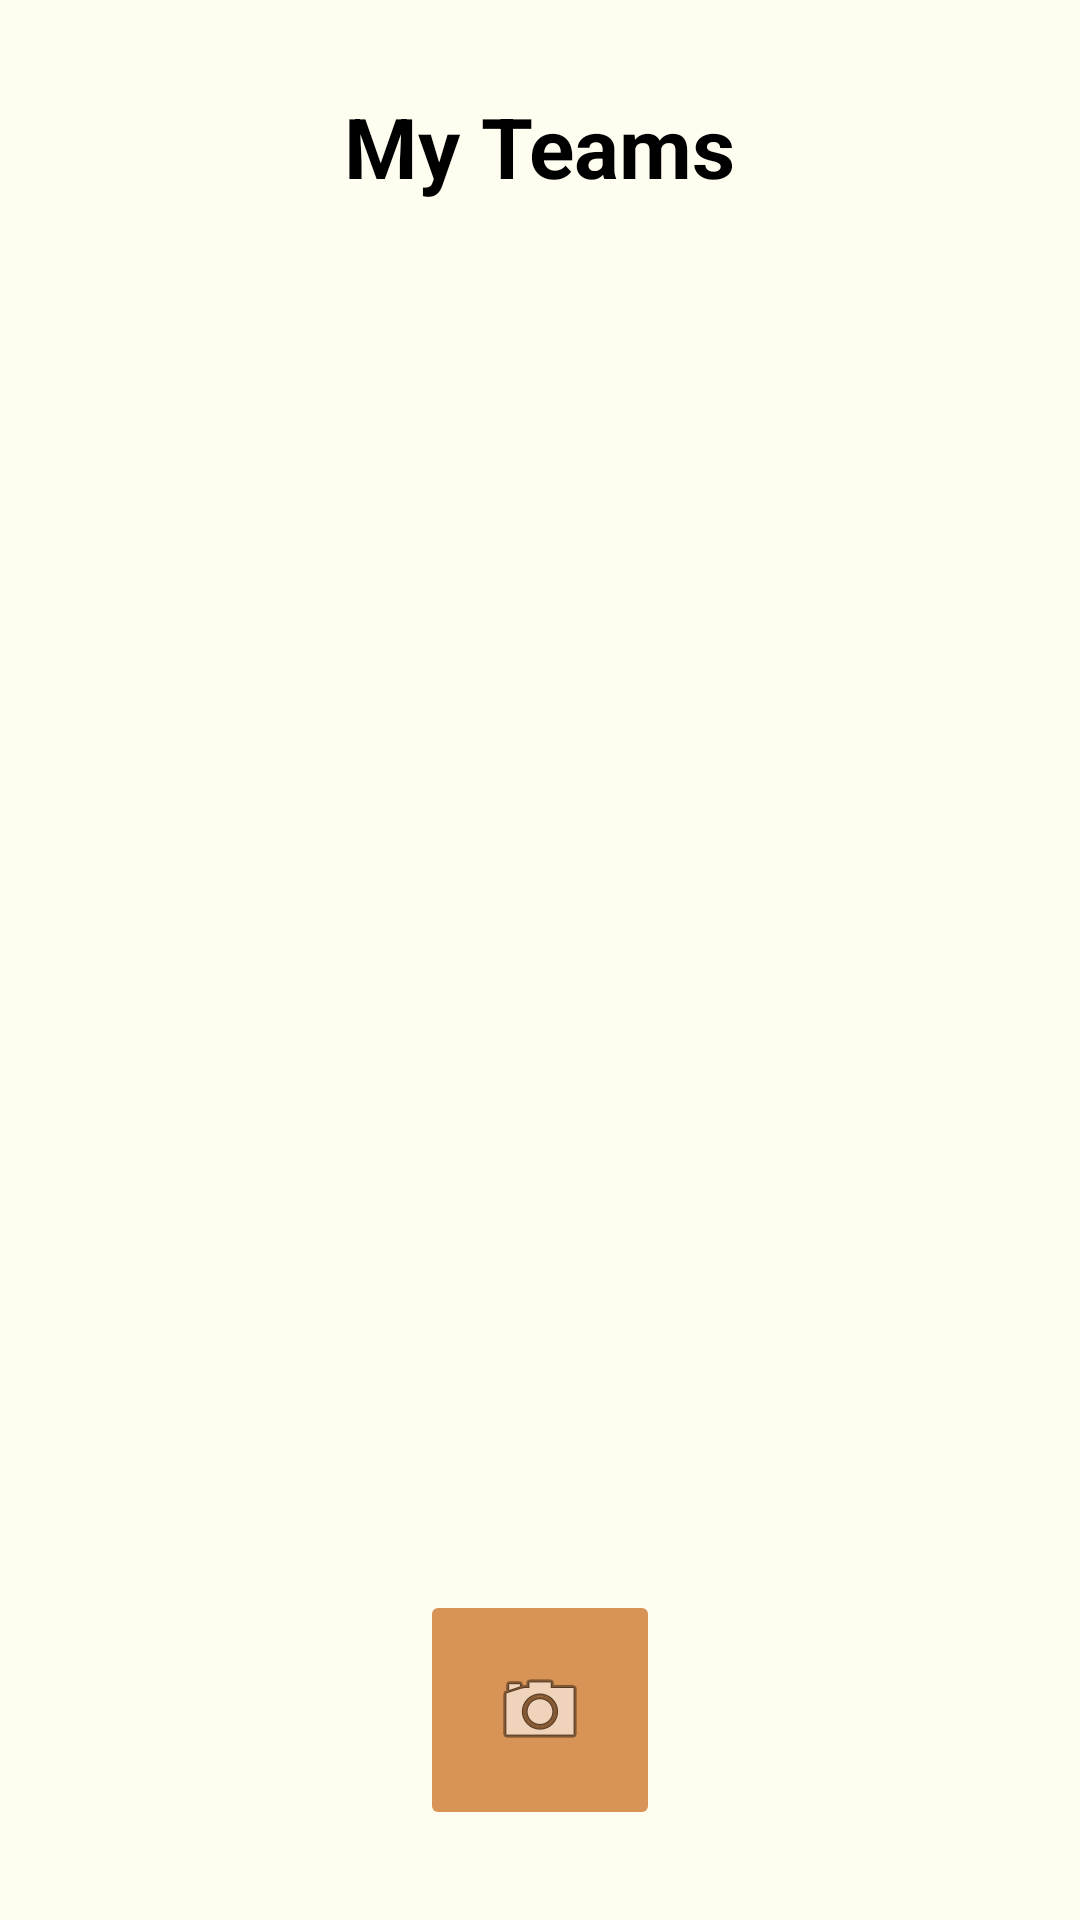

Icons on this 1080w x 1920h Android screen, each with its box as {"x1": x1, "y1": y1, "x2": x2, "y2": y2}:
camera: {"x1": 432, "y1": 1608, "x2": 648, "y2": 1812}
